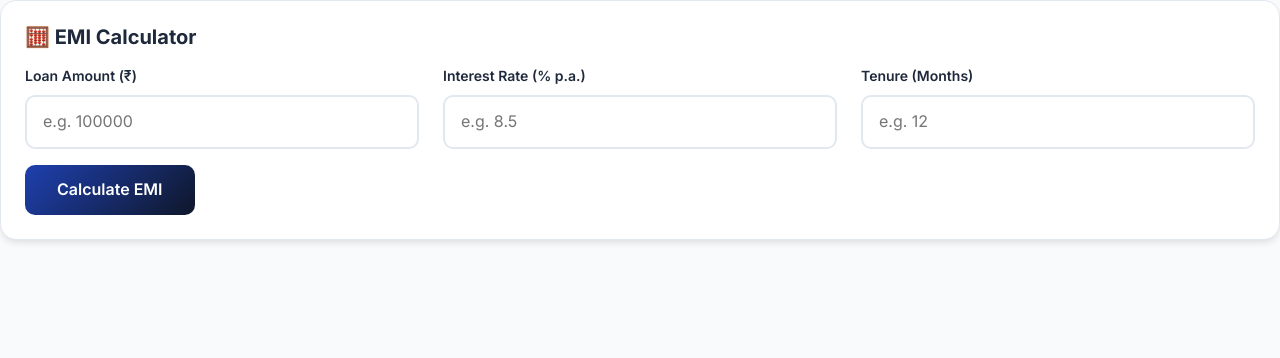
Test: EMICalculator Component › should calculate EMI when values are entered
This screenshot has width=1280, height=358.
In the number field with placeholder "e.g. 100000": x=222, y=122 [25,95,419,149], type "100000"
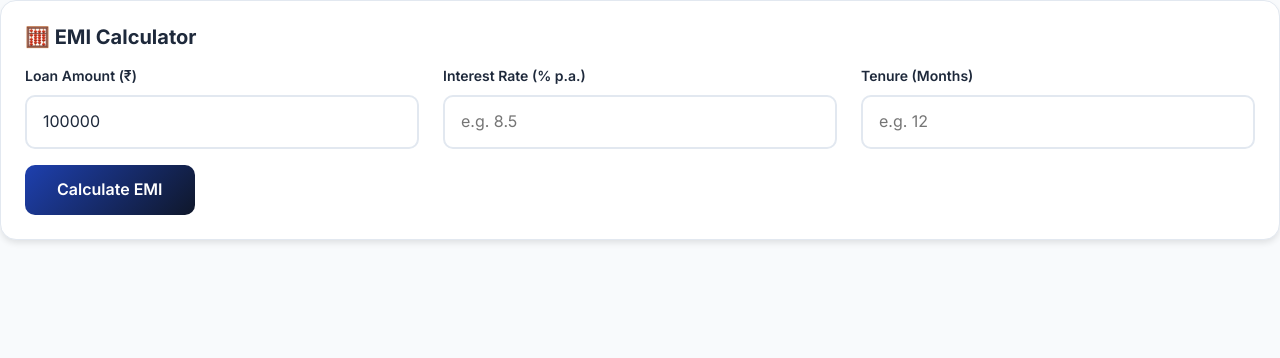
In the number field with placeholder "e.g. 8.5": x=640, y=122 [443,95,837,149], type "10"
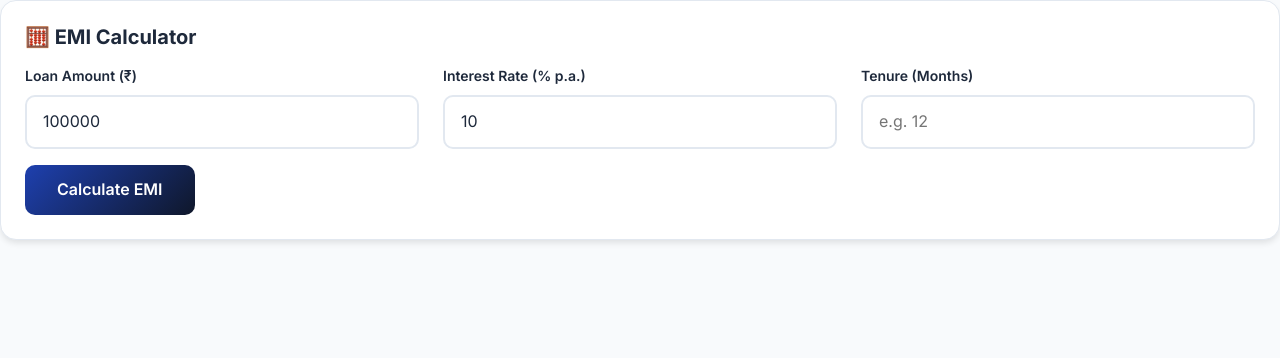
In the number field with placeholder "e.g. 12": x=1058, y=122 [861,95,1255,149], type "12"
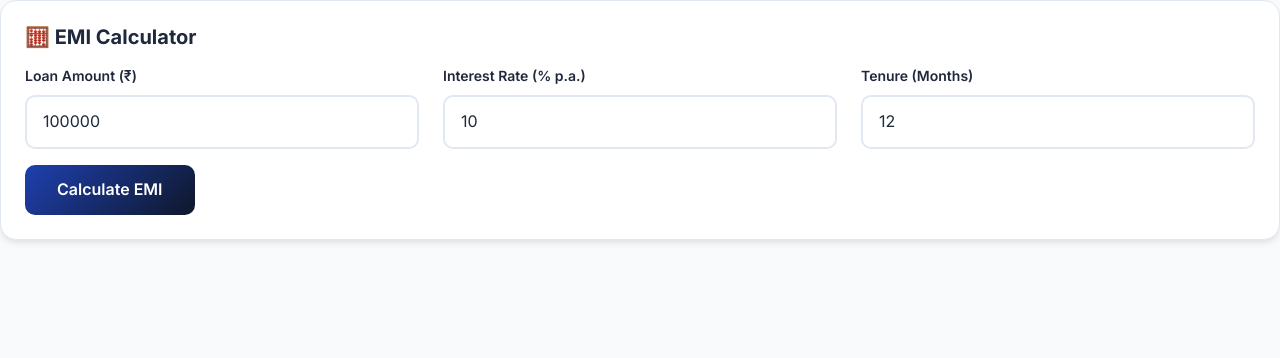
Click the button "Calculate EMI": x=110, y=190 [25,165,194,215]
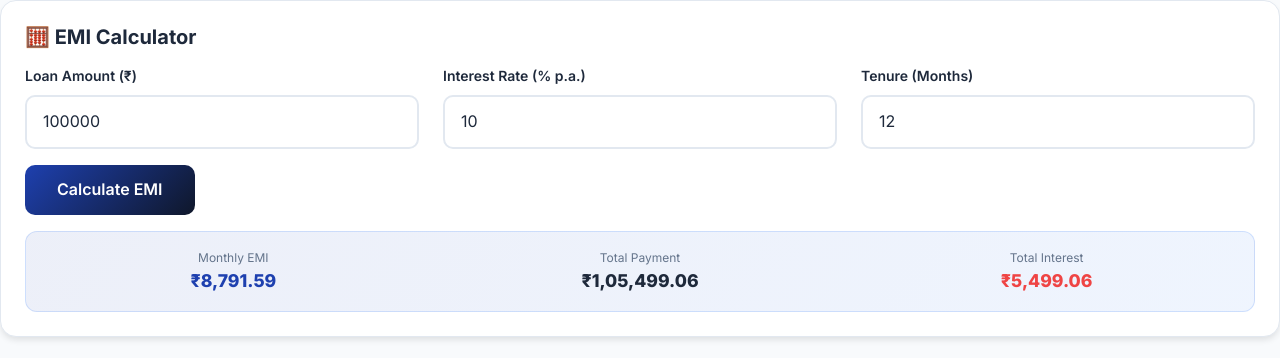
expect the text "Monthly EMI" is shown: met, box [198,250,269,265]
